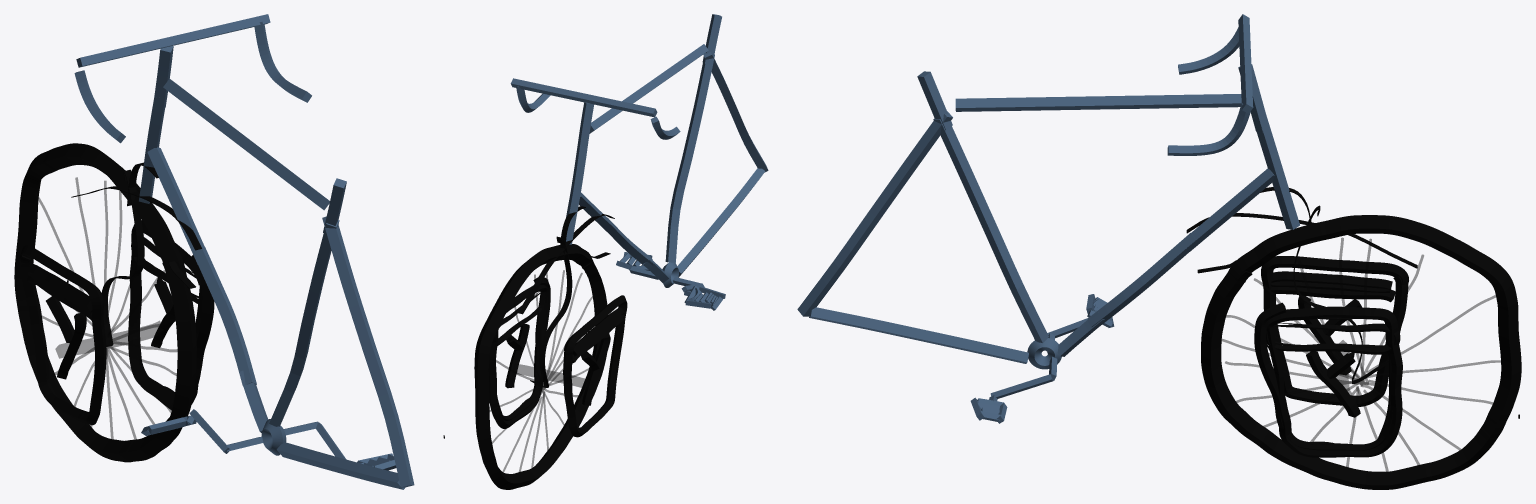
3 renders of one model, left to right at view 1: azimuth 30°, elevation 25°; view 2: azimuth 150°, elevation 25°; view 3: azimuth 270°, elevation 25°, orthographic. The views are drawn at different scales.
Parts seen in each view (by area): view 1: group_0; view 2: group_0; view 3: group_0.
Boxes of the visible parts, <box> form: group_0: <box>14,14,414,489</box>; group_0: <box>443,14,768,489</box>; group_0: <box>797,14,1521,489</box>.
Size of the model in its own units: 2.23 by 4.9 by 7.38.
